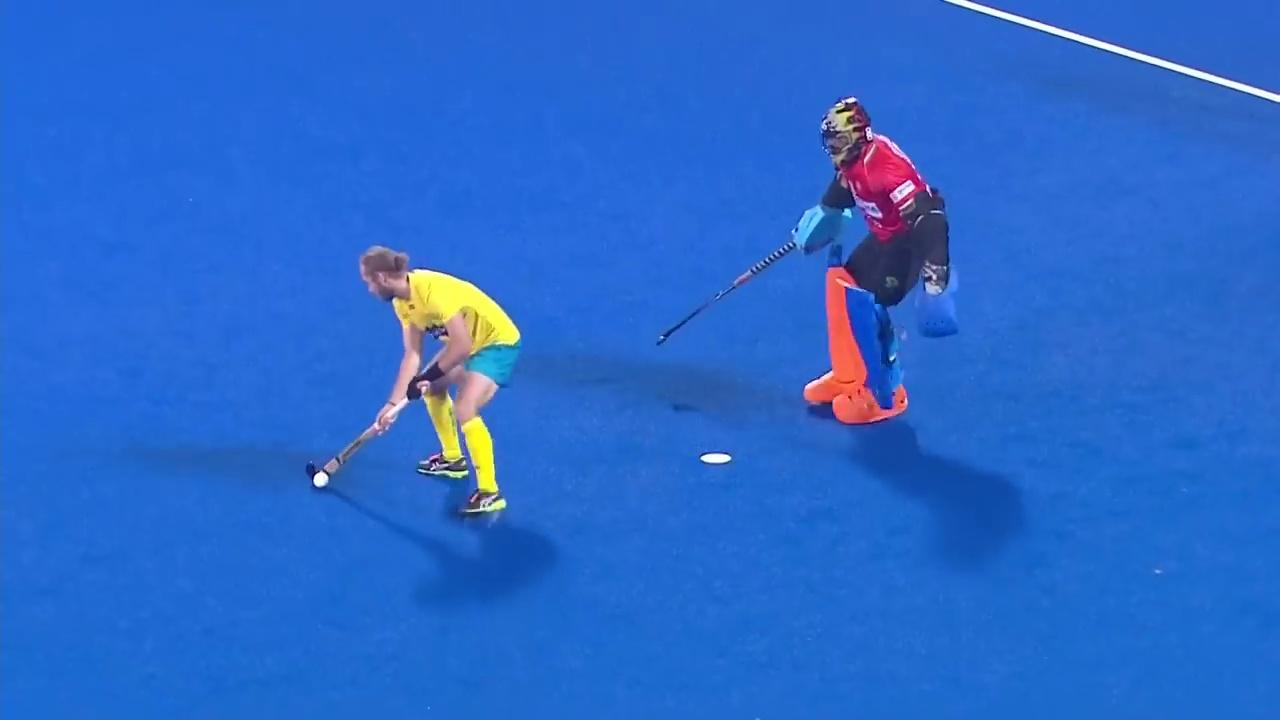ball: (289, 445, 352, 511)
